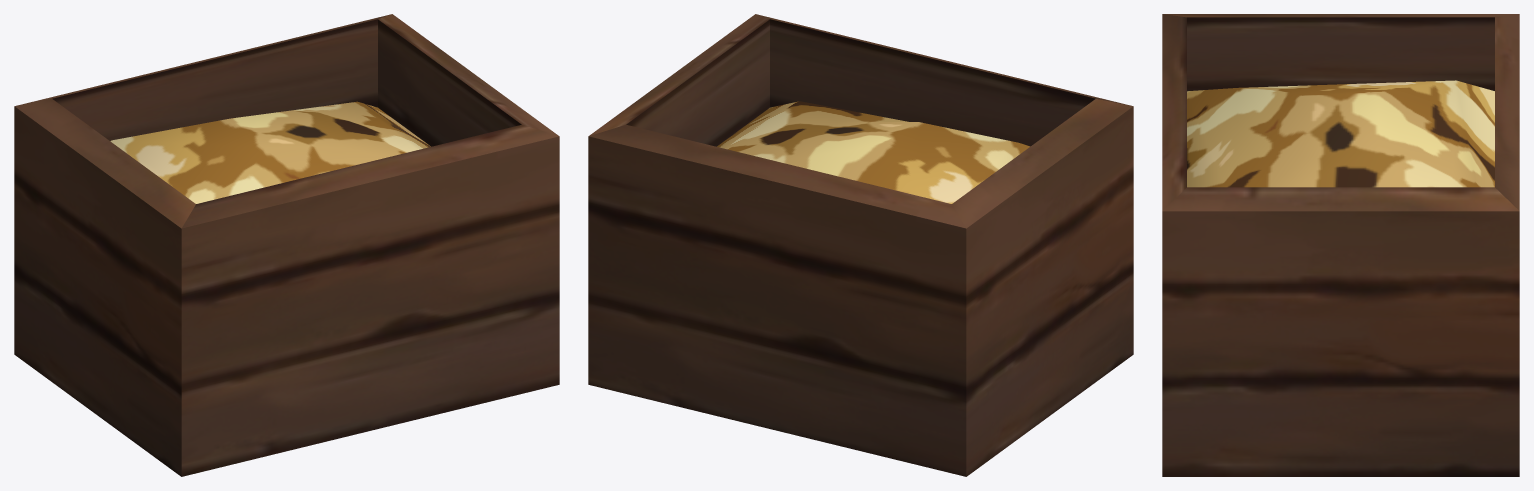
3 renders of one model, left to right at view 1: azimuth 30°, elevation 25°; view 2: azimuth 150°, elevation 25°; view 3: azimuth 270°, elevation 25°, orthographic. The views are drawn at different scales.
Visible parts, largest first — view 1: Cube.037; view 2: Cube.037; view 3: Cube.037.
Part boxes in pixels (x1,y1,x2,y2): Cube.037: (14,14,559,476); Cube.037: (588,14,1133,476); Cube.037: (1162,14,1519,476).
Bounding box in the file's own units: 113 × 96.06 × 147.
